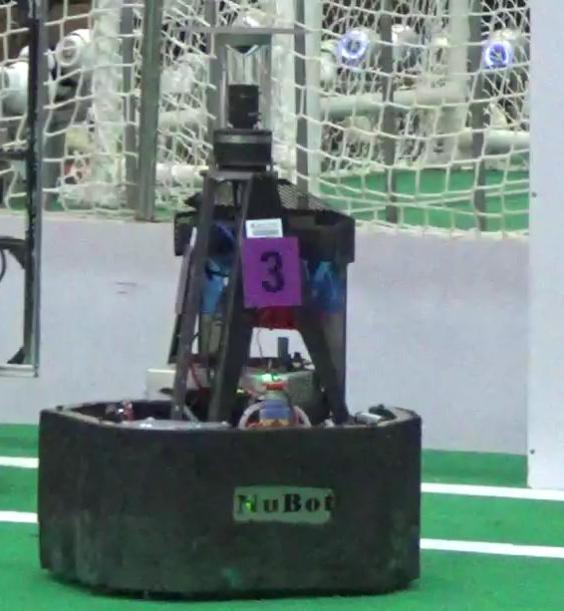robot: (25, 14, 429, 606)
